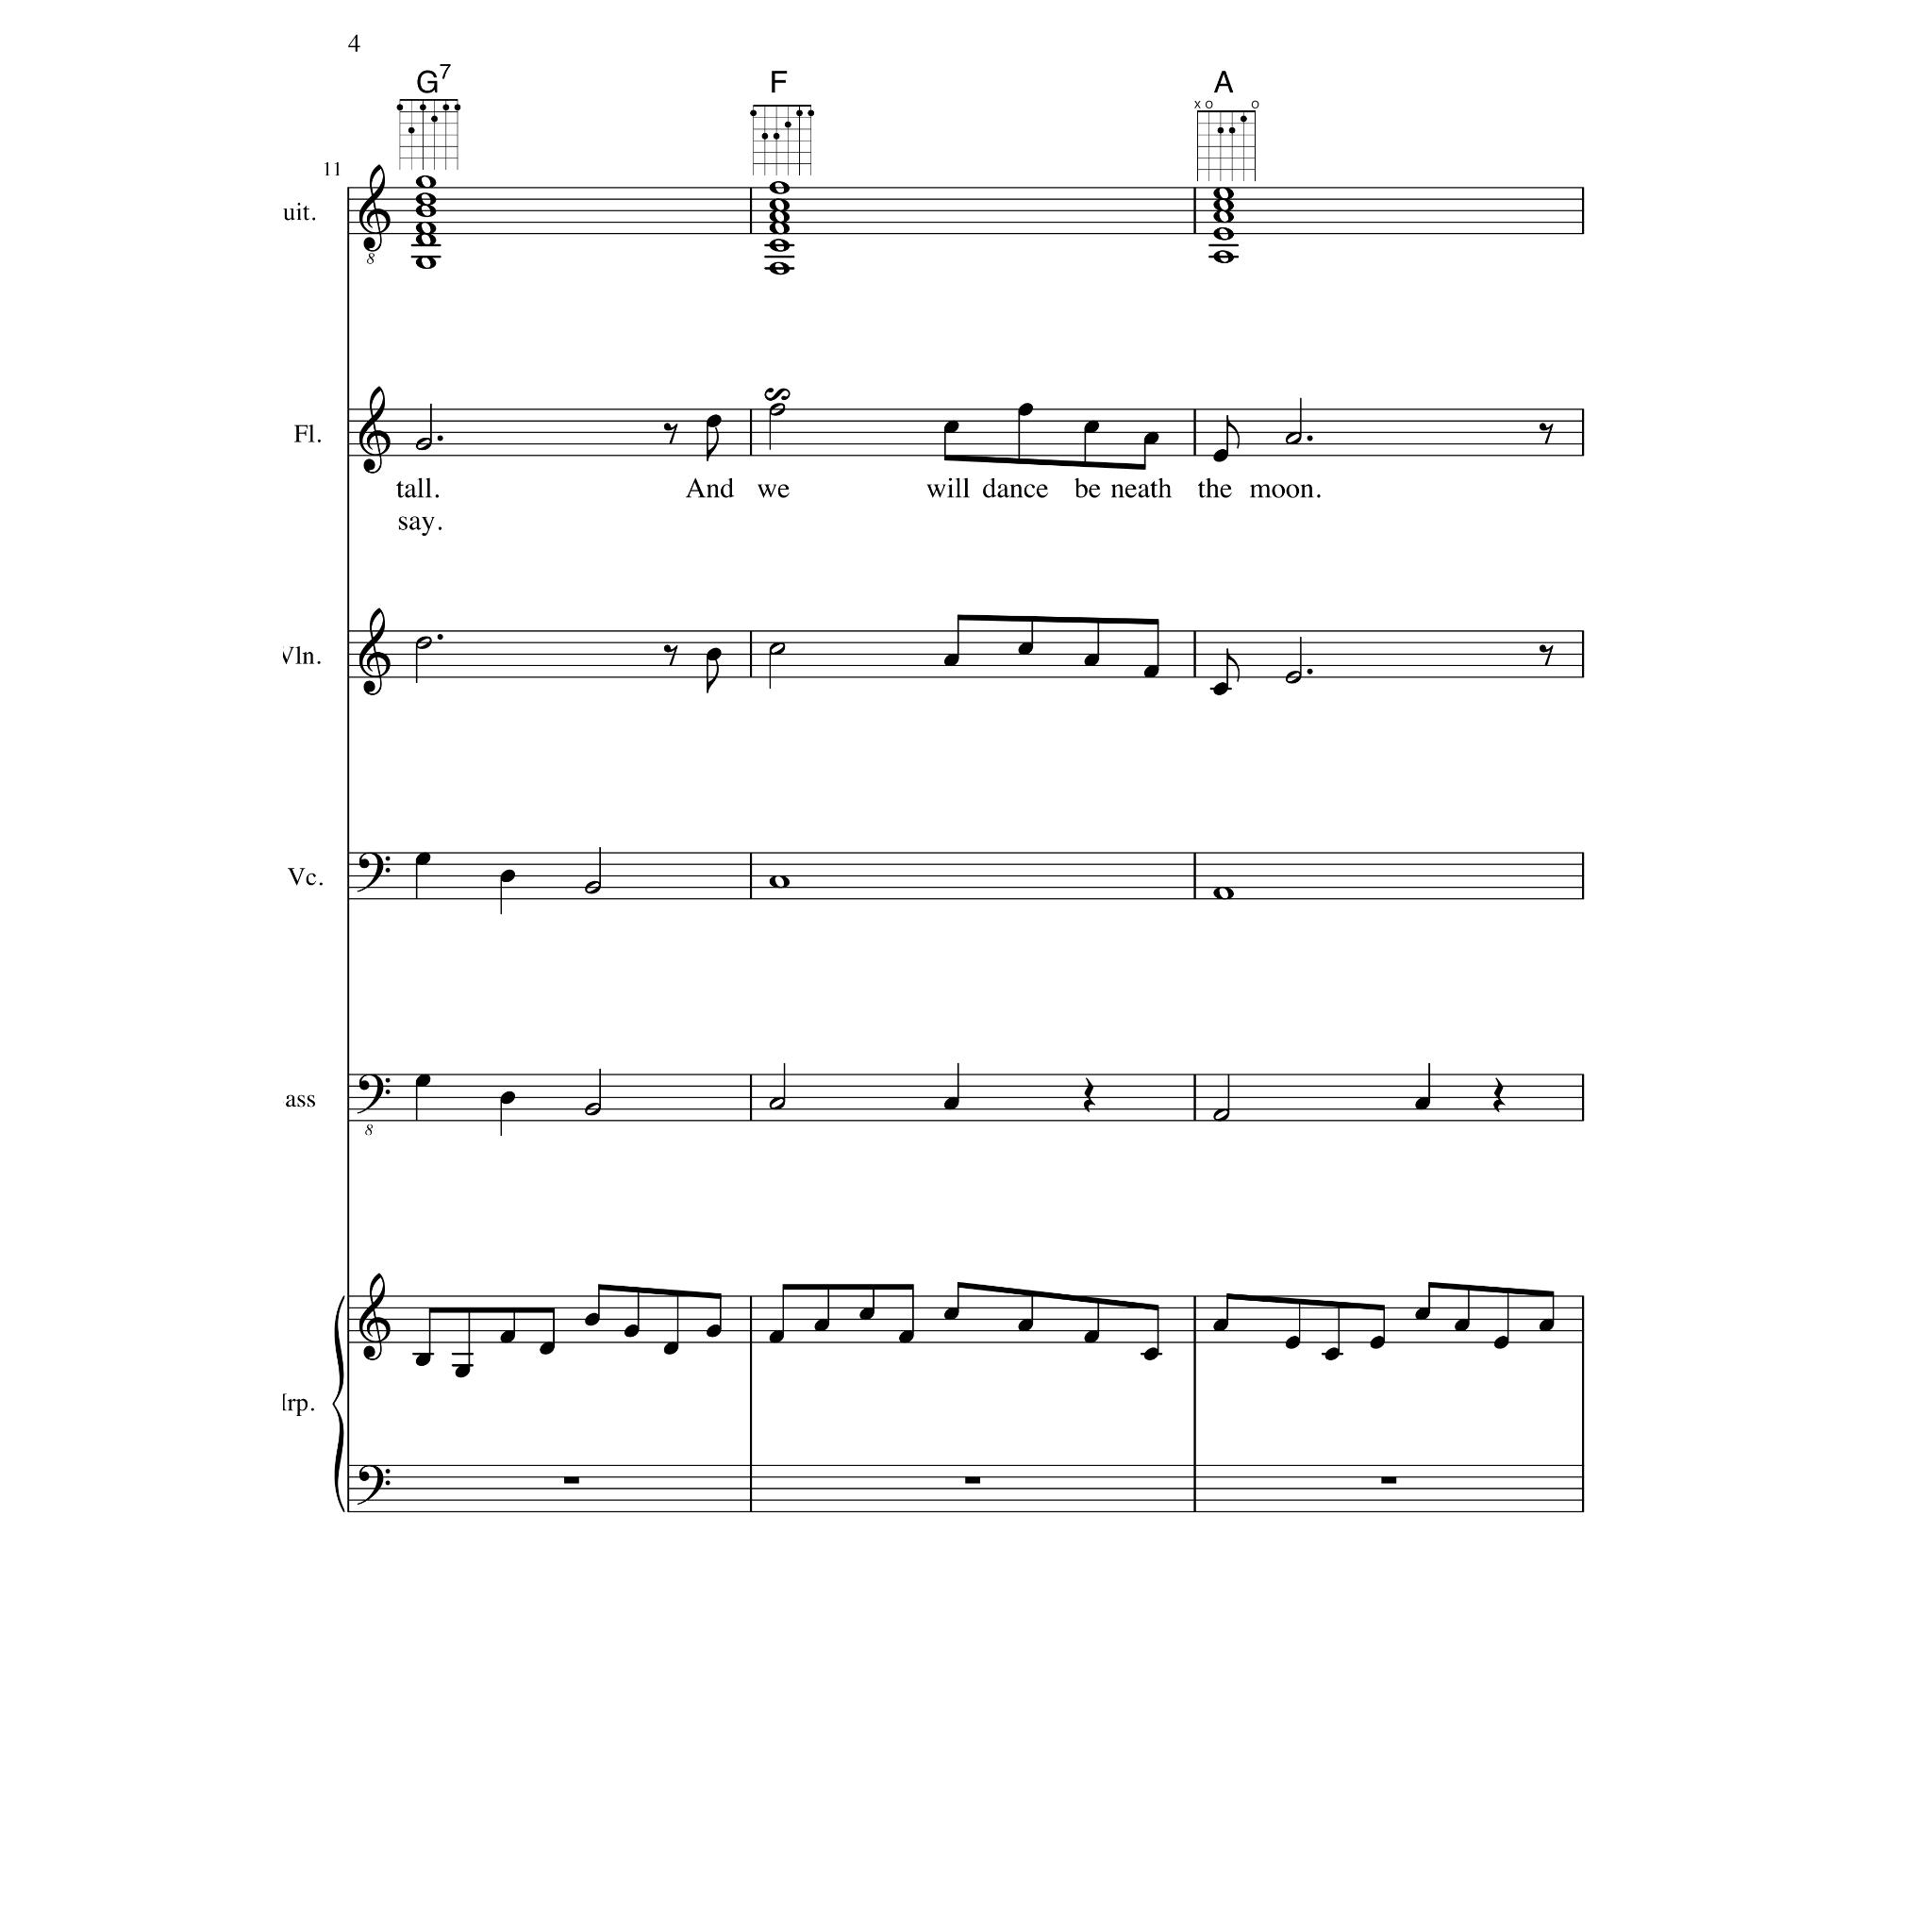brace: (332, 1294, 345, 1513)
fClef: (357, 1464, 391, 1506), (357, 1074, 391, 1115), (357, 853, 391, 892)
flag8thDown: (708, 659, 719, 693), (708, 427, 719, 461)
flag8thUp: (1226, 416, 1240, 450), (1226, 649, 1240, 683)
gClef: (358, 164, 391, 253), (358, 386, 391, 475), (358, 608, 391, 696), (358, 1273, 391, 1361)
noteheadBlack: (943, 1096, 958, 1111), (1415, 1096, 1430, 1111), (1083, 421, 1100, 434), (1017, 403, 1034, 416), (1017, 642, 1034, 656), (1017, 1319, 1034, 1332), (1083, 654, 1100, 667), (1083, 1330, 1100, 1343), (1538, 1319, 1555, 1332), (1453, 1319, 1470, 1332), (768, 1330, 785, 1343), (813, 1319, 830, 1332), (858, 1307, 875, 1321), (662, 1341, 679, 1355), (623, 1324, 640, 1338), (1213, 682, 1228, 695), (943, 1307, 958, 1321), (1213, 449, 1228, 462), (1213, 1319, 1228, 1332), (943, 654, 958, 667), (1143, 1347, 1158, 1360), (1143, 432, 1158, 445), (1143, 665, 1158, 678), (1285, 1336, 1300, 1349), (1415, 1307, 1430, 1321), (1494, 1336, 1509, 1349), (1324, 1347, 1340, 1360), (1370, 1336, 1385, 1349), (455, 1365, 470, 1378), (415, 853, 430, 866), (415, 1074, 430, 1087), (415, 1353, 430, 1366), (585, 1313, 600, 1326), (540, 1341, 555, 1355), (943, 421, 958, 434), (500, 870, 515, 883), (500, 1091, 515, 1105), (500, 1330, 515, 1343), (898, 1330, 913, 1343), (706, 1324, 721, 1338), (706, 648, 721, 661), (706, 415, 721, 428)
noteheadHalf: (1212, 1108, 1229, 1122), (1285, 432, 1302, 445), (1285, 671, 1302, 684), (415, 637, 432, 650), (584, 881, 601, 894), (584, 1103, 601, 1116), (415, 438, 432, 451), (769, 403, 786, 416), (769, 642, 786, 656), (769, 1097, 786, 1110)
noteheadWhole: (768, 221, 791, 236), (768, 209, 791, 225), (1213, 209, 1234, 225), (415, 232, 436, 247), (415, 221, 436, 236), (415, 204, 436, 219), (415, 192, 436, 208), (768, 199, 791, 212), (768, 181, 791, 194), (768, 240, 791, 253), (768, 875, 791, 889), (768, 262, 791, 275), (1213, 887, 1234, 900), (1213, 187, 1234, 200), (1213, 251, 1234, 264), (1213, 227, 1234, 241), (1213, 199, 1234, 212), (415, 257, 436, 270), (415, 175, 436, 189)
rest8th: (1539, 423, 1554, 445), (1539, 644, 1554, 667), (663, 423, 678, 445), (663, 644, 678, 667)
restQuarter: (1083, 1077, 1096, 1113), (1492, 1077, 1506, 1113)
restWhole: (964, 1476, 981, 1484), (562, 1476, 579, 1484), (1381, 1476, 1396, 1484)
